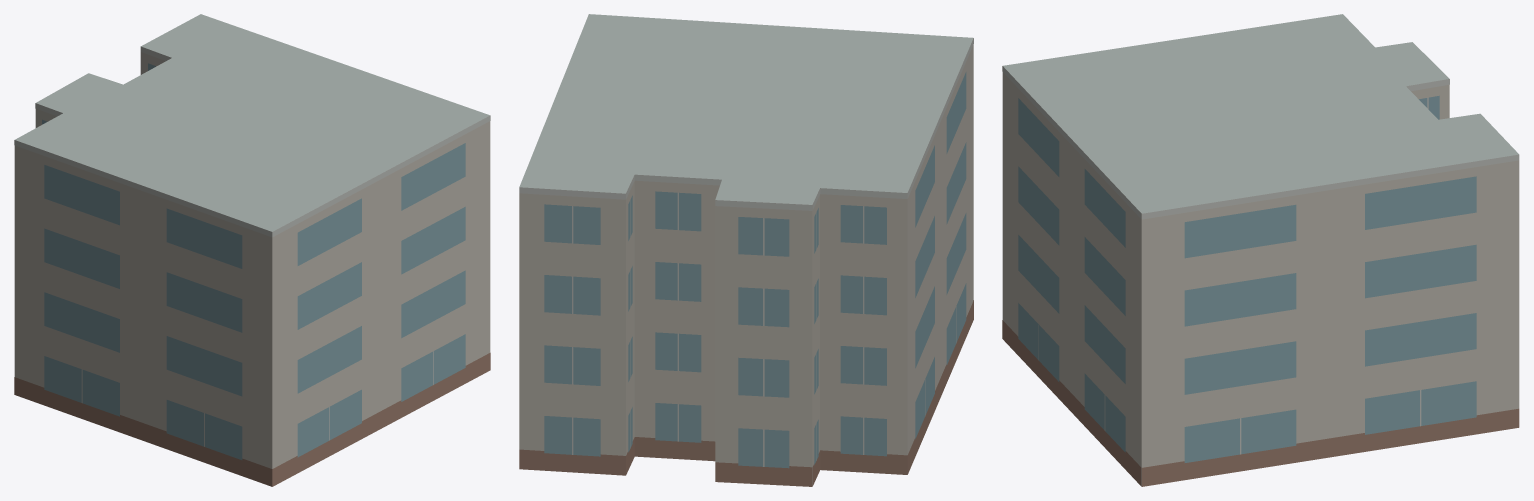
Rendered from survey-upis-32992660.glb.
3 renders of one model, left to right at view 1: azimuth 30°, elevation 25°; view 2: azimuth 150°, elevation 25°; view 3: azimuth 270°, elevation 25°, orthographic. The views are drawn at different scales.
Parts seen in each view (by area): view 1: survey-upis-32992660.tmp; view 2: survey-upis-32992660.tmp; view 3: survey-upis-32992660.tmp.
Boxes of the visible parts, x1,y1,x2,y2 form: survey-upis-32992660.tmp: (14,14,490,486); survey-upis-32992660.tmp: (519,14,973,486); survey-upis-32992660.tmp: (1002,14,1519,486).
Size of the model in its own units: 17.86 by 11.38 by 19.53.
